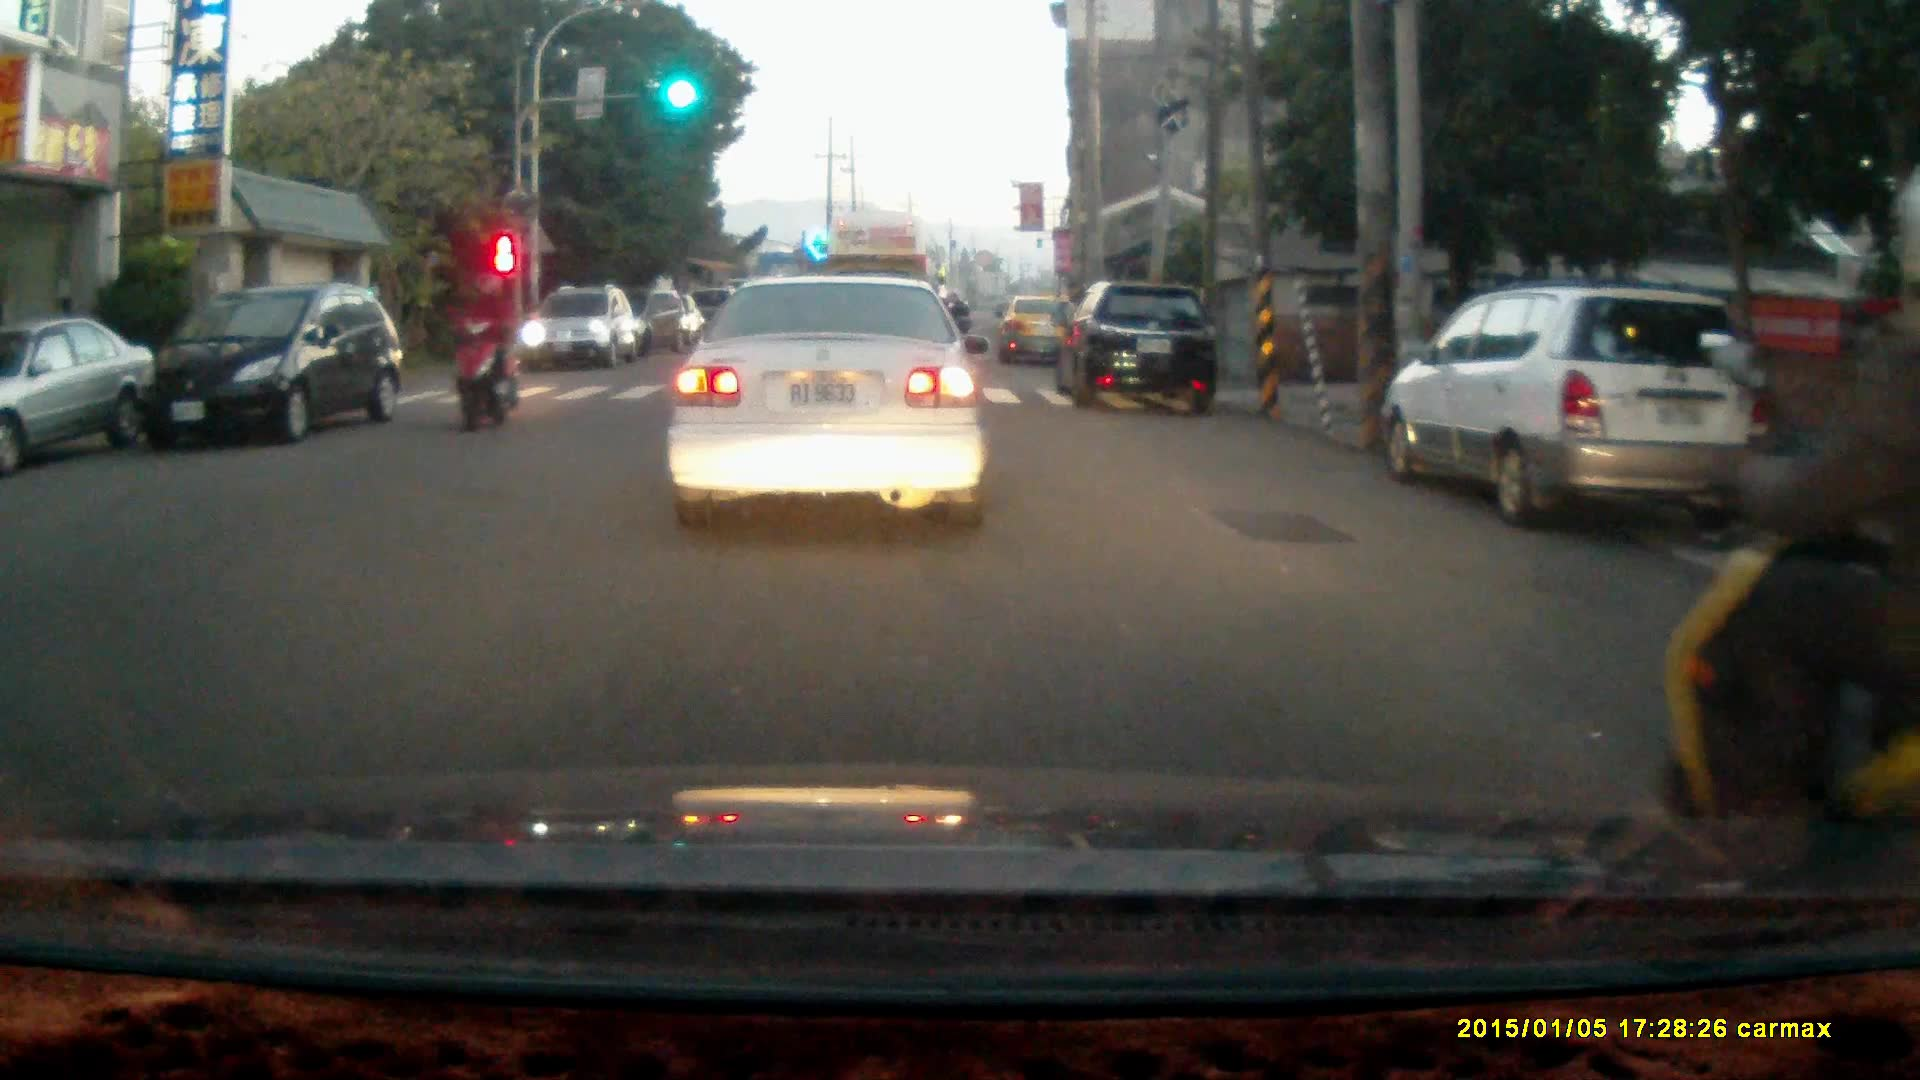rider: (1660, 283, 1920, 930), (453, 266, 521, 436)
vehicle: (1393, 284, 1768, 519), (671, 270, 992, 524), (131, 283, 405, 453), (0, 316, 151, 465), (1059, 279, 1218, 411), (823, 205, 938, 364), (523, 286, 641, 376), (997, 293, 1088, 369)
